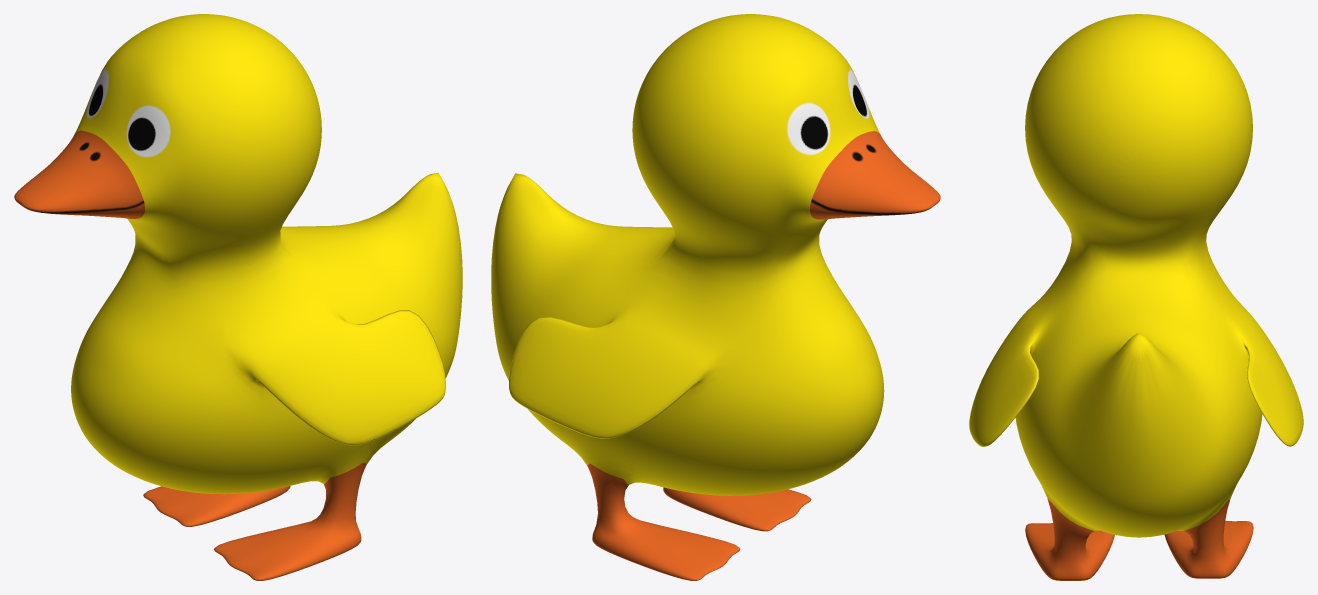
Rendered from Sketchfab_2020_04_29_11_34_09.fbx.
The picture shows the model from 3 angles, left to right: view 1: azimuth 30°, elevation 25°; view 2: azimuth 150°, elevation 25°; view 3: azimuth 270°, elevation 25°; orthographic projection. The views are drawn at different scales.
Parts seen in each view (by area): view 1: ducky; view 2: ducky; view 3: ducky.
Part boxes in pixels (box(x1,y1,x2,y2)): ducky: box(14, 14, 462, 580); ducky: box(491, 14, 940, 580); ducky: box(969, 14, 1303, 580).
Size of the model in its own units: 382 by 431 by 260.
